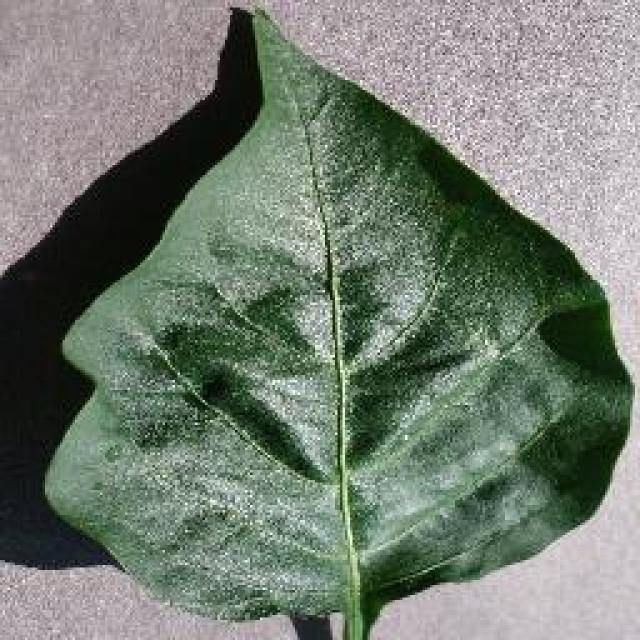Chilli_Healthy: (40, 2, 635, 638)
